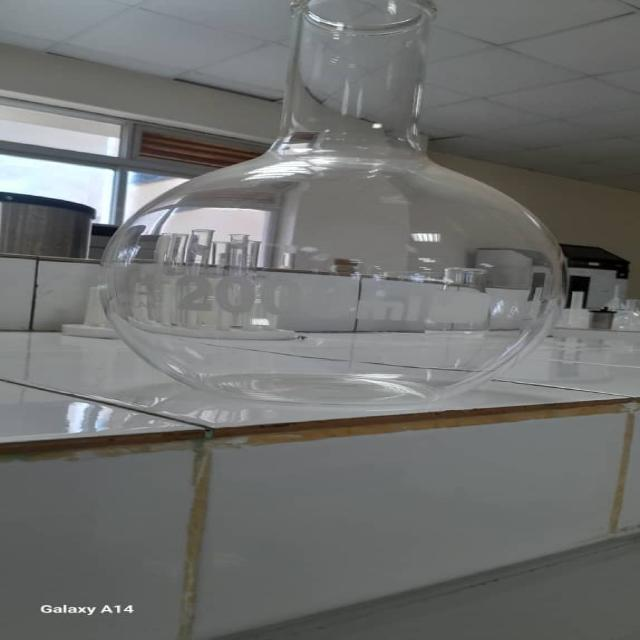Round Bottom Flask: (93, 1, 573, 411)
